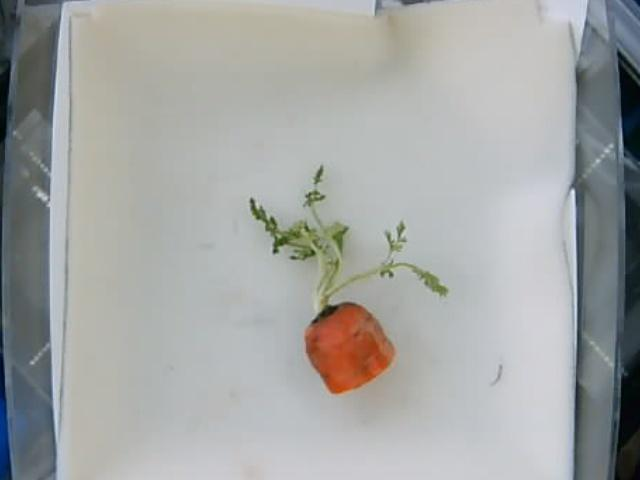Carrot: (249, 165, 448, 395)
